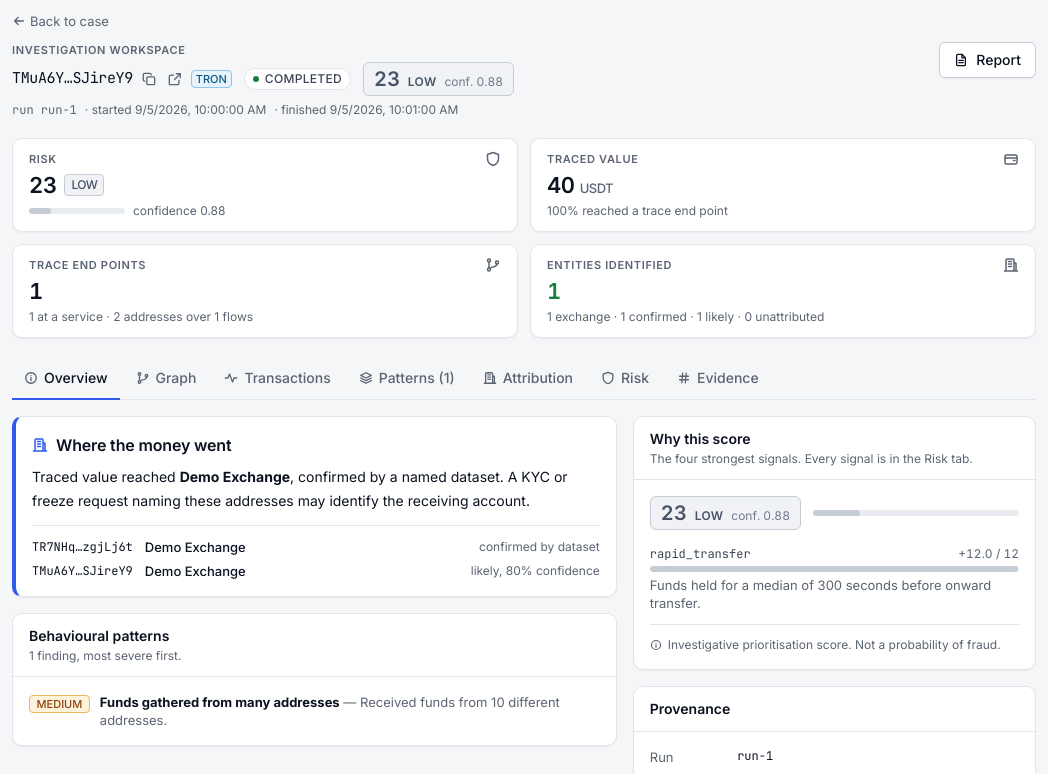
investigation workspace › shows a truncated graph as truncated
Expected: the heading "Where the money went" is shown, [32,435,232,455]
Click the tab "Graph" at (166, 379), box [124,358,208,400]
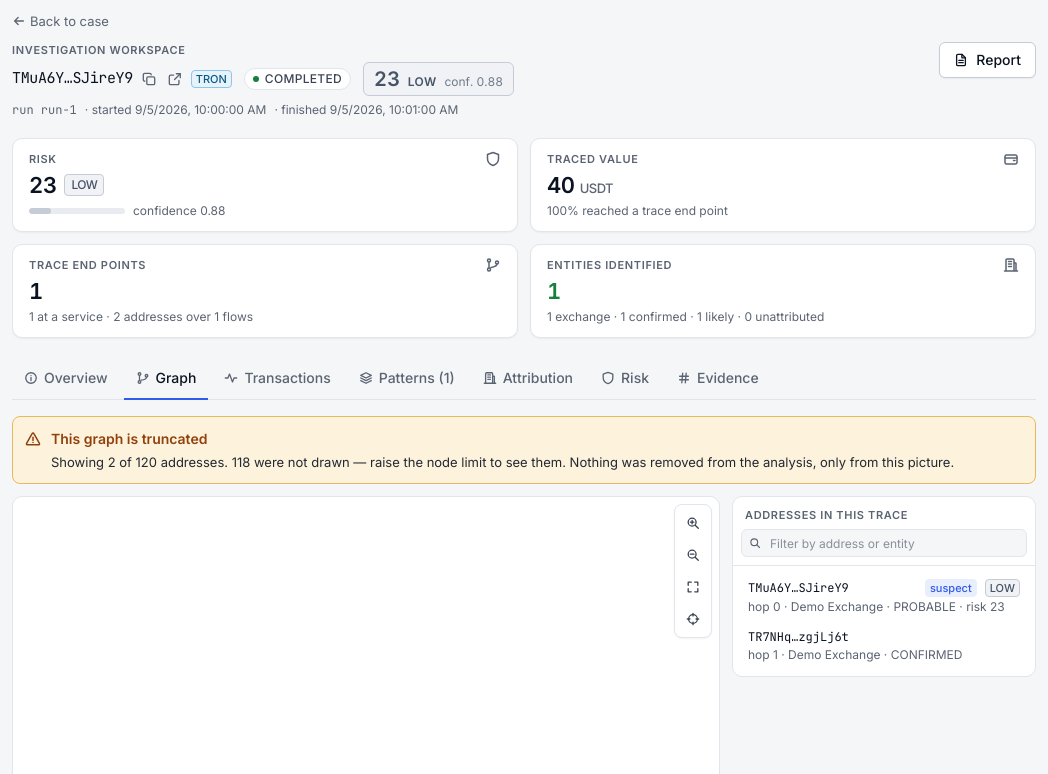
Now the text "This graph is truncated" is shown, box [50,429,207,447]
Now the text "Showing 2 of 120 addresses" is shown, box [51,453,1023,471]
